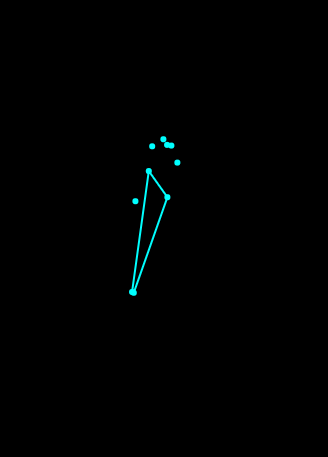warrior_1: (119, 125, 186, 313)
